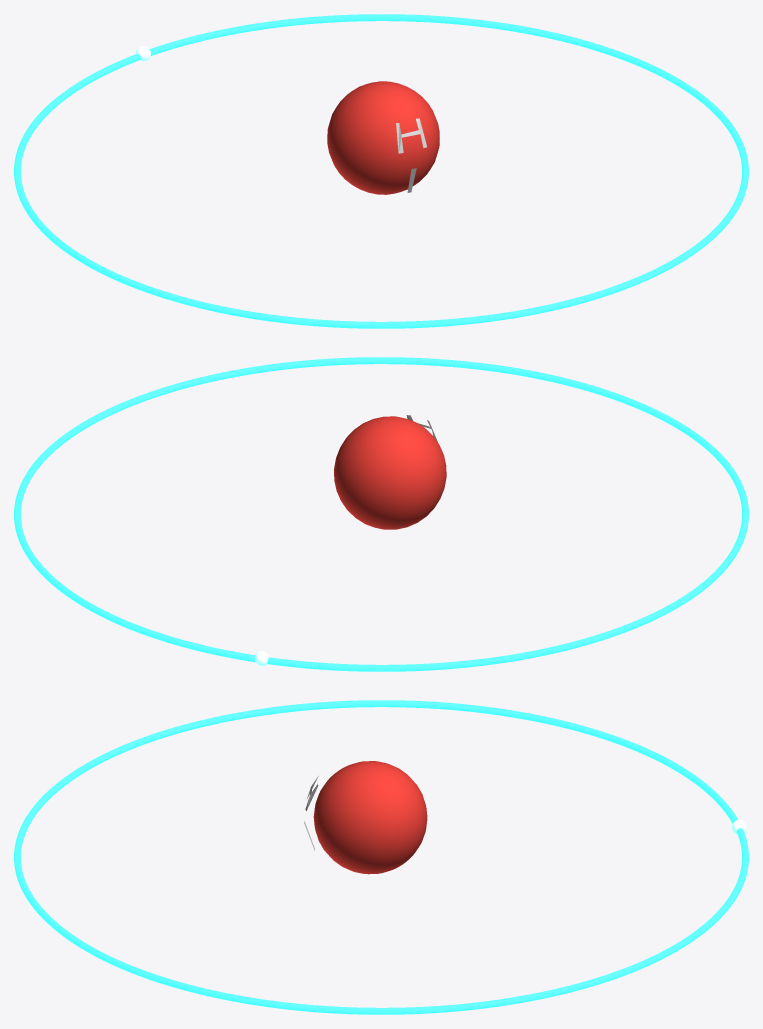
Rendered from Atom1.fbx.
The picture shows the model from 3 angles, top to bottom: view 1: azimuth 30°, elevation 25°; view 2: azimuth 150°, elevation 25°; view 3: azimuth 270°, elevation 25°; orthographic projection.
Parts seen in each view (by area): view 1: BézierCircle, Sphere.001; view 2: BézierCircle, Sphere.001; view 3: BézierCircle, Sphere.001.
Part boxes in pixels (left/top/right/bottom): BézierCircle: left=14, top=14, right=748, bottom=328; Sphere.001: left=327, top=81, right=439, bottom=194; BézierCircle: left=14, top=357, right=748, bottom=671; Sphere.001: left=334, top=416, right=446, bottom=529; BézierCircle: left=14, top=700, right=748, bottom=1014; Sphere.001: left=313, top=761, right=427, bottom=874.
Bounding box in the file's own units: 153 × 23.76 × 153.
